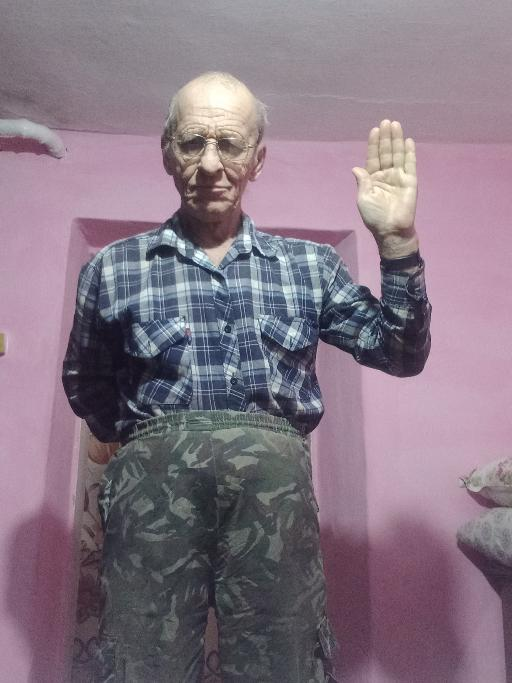stop: (348, 116, 420, 240)
